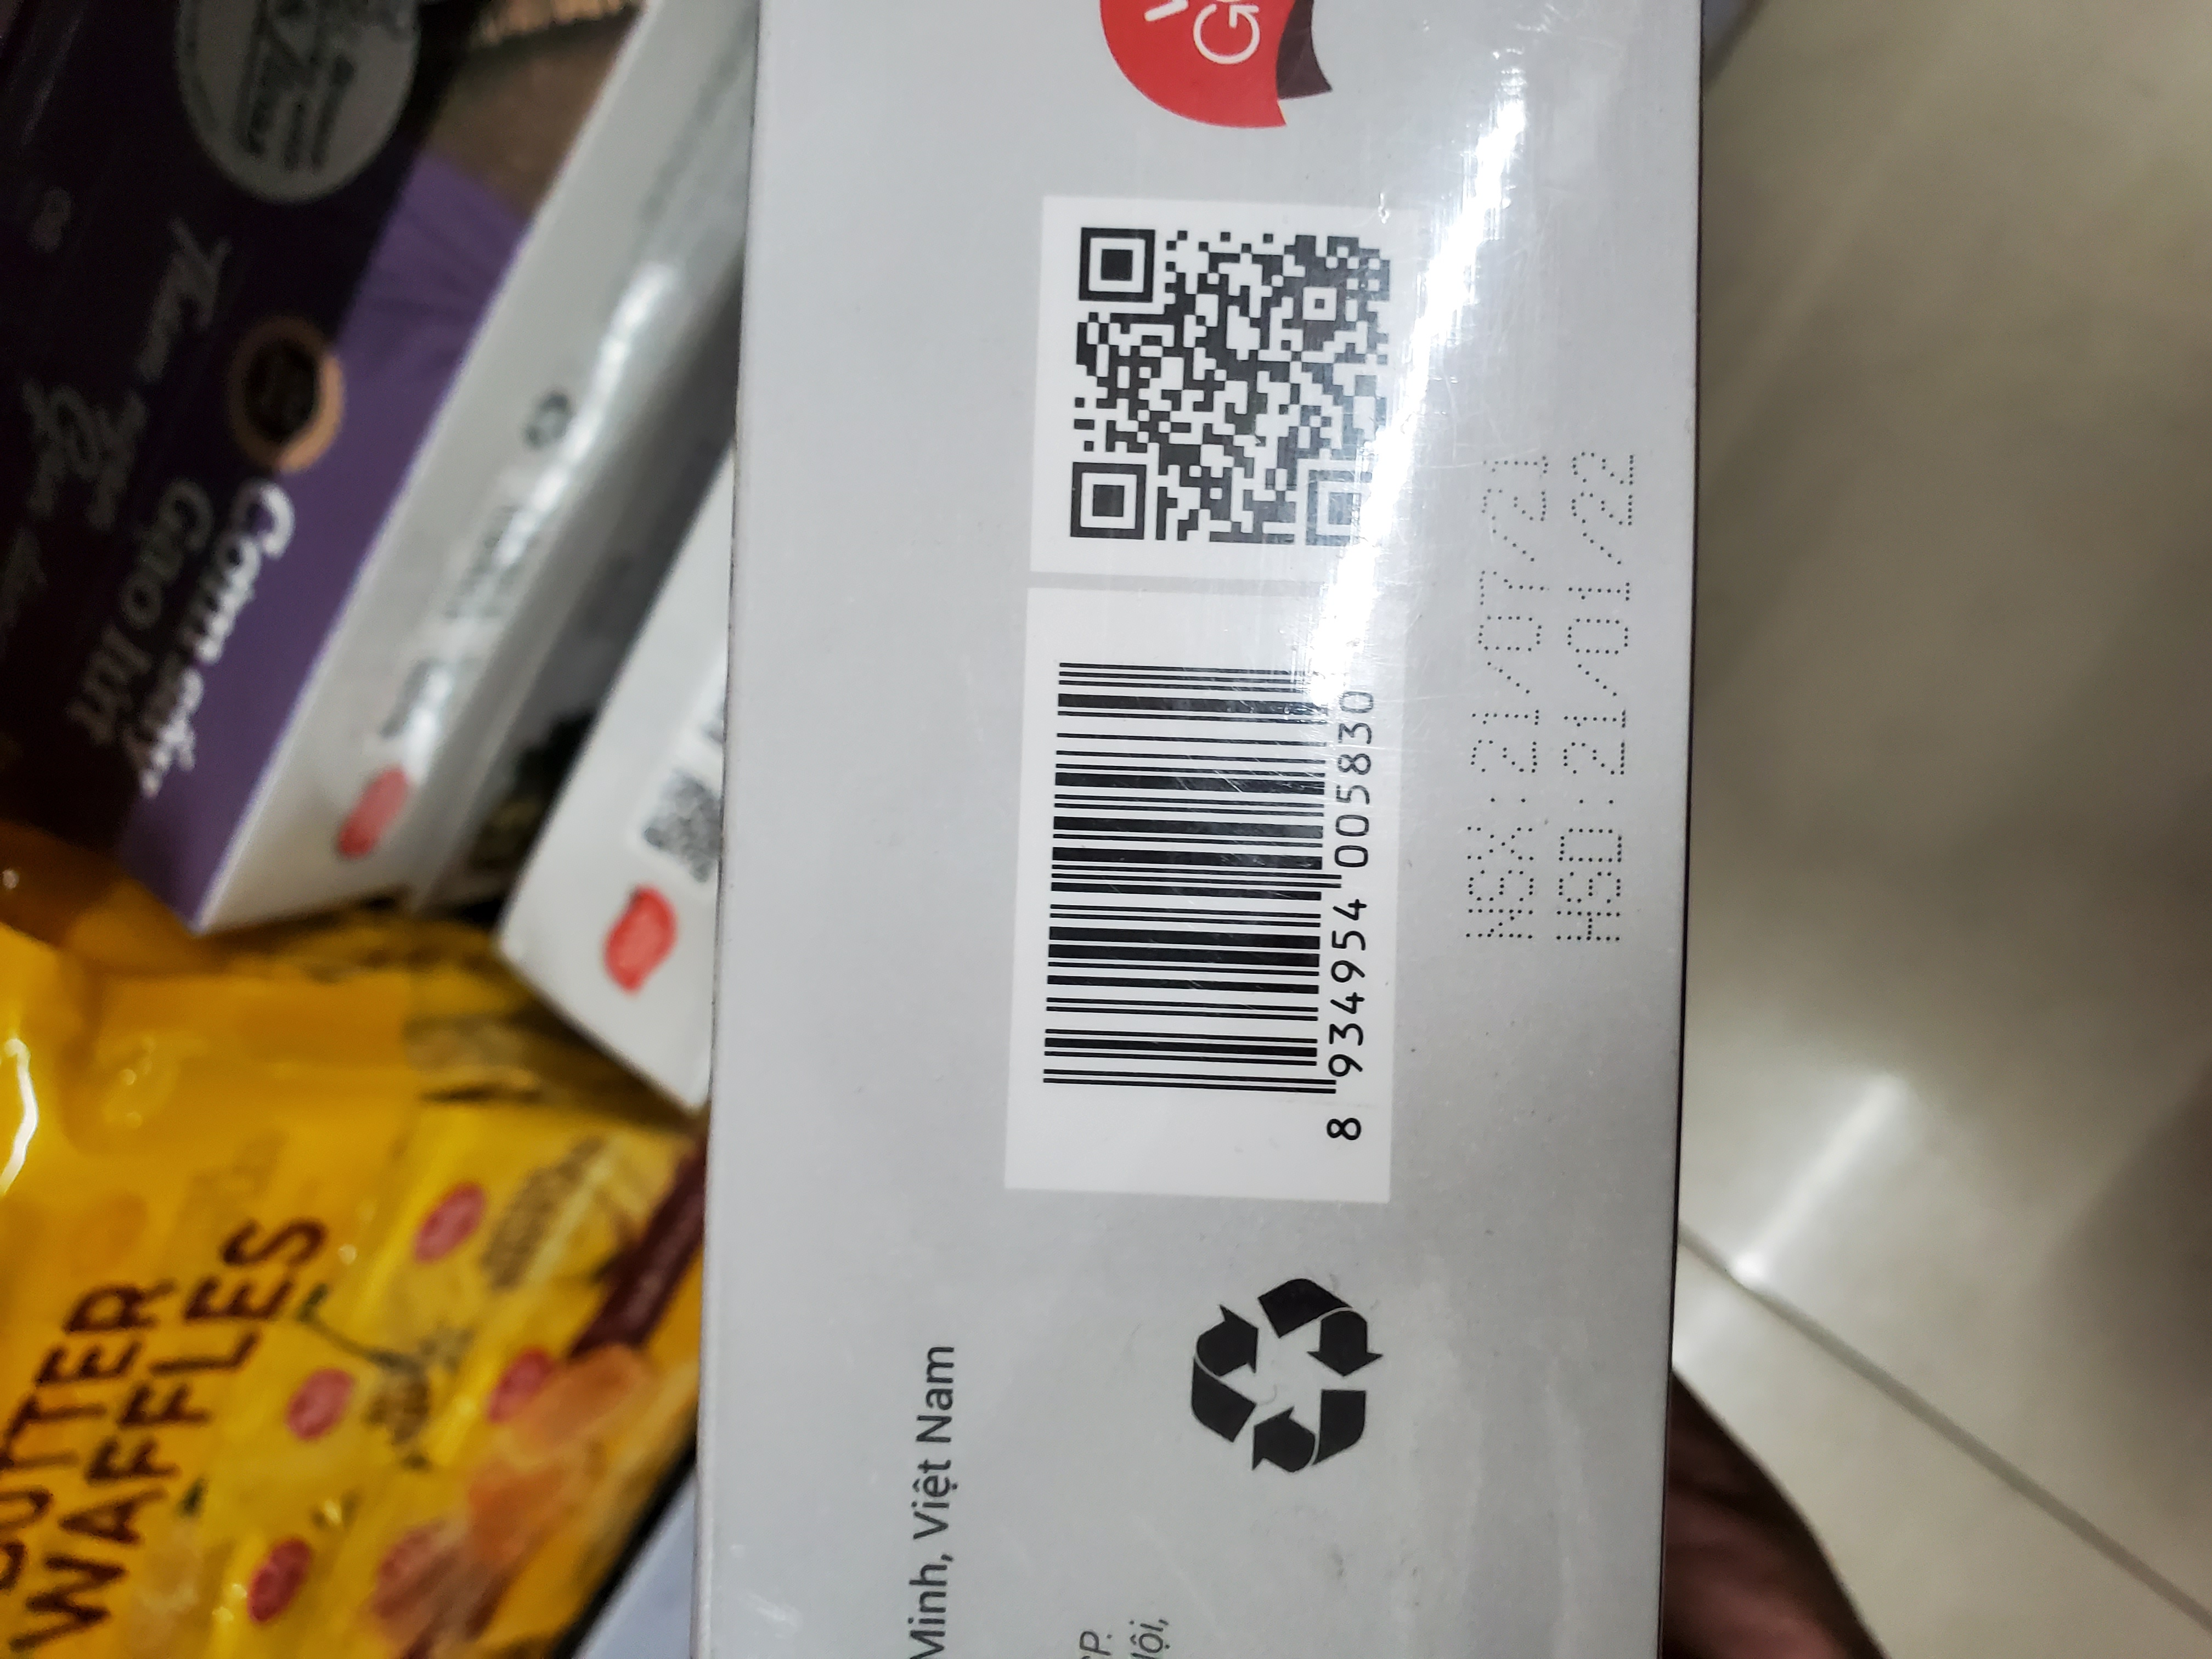barcode: (1026, 615, 1409, 1187)
qr code: (1033, 195, 1439, 582)
